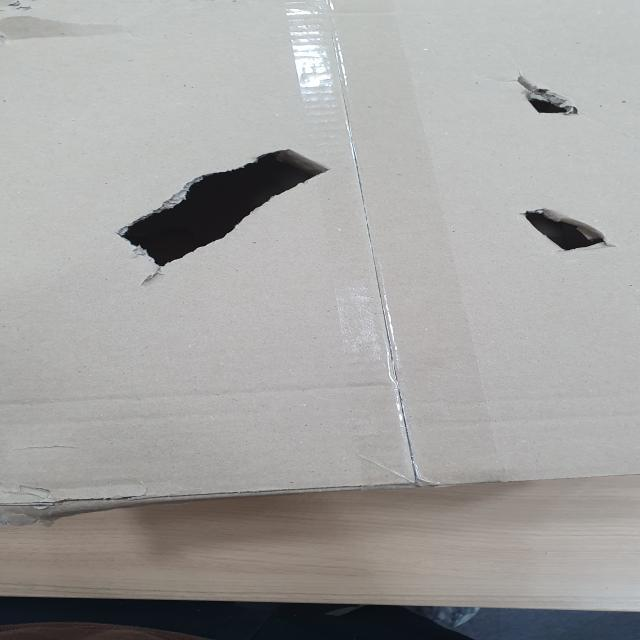hole: (111, 141, 325, 255), (520, 206, 624, 252), (512, 83, 592, 119)
